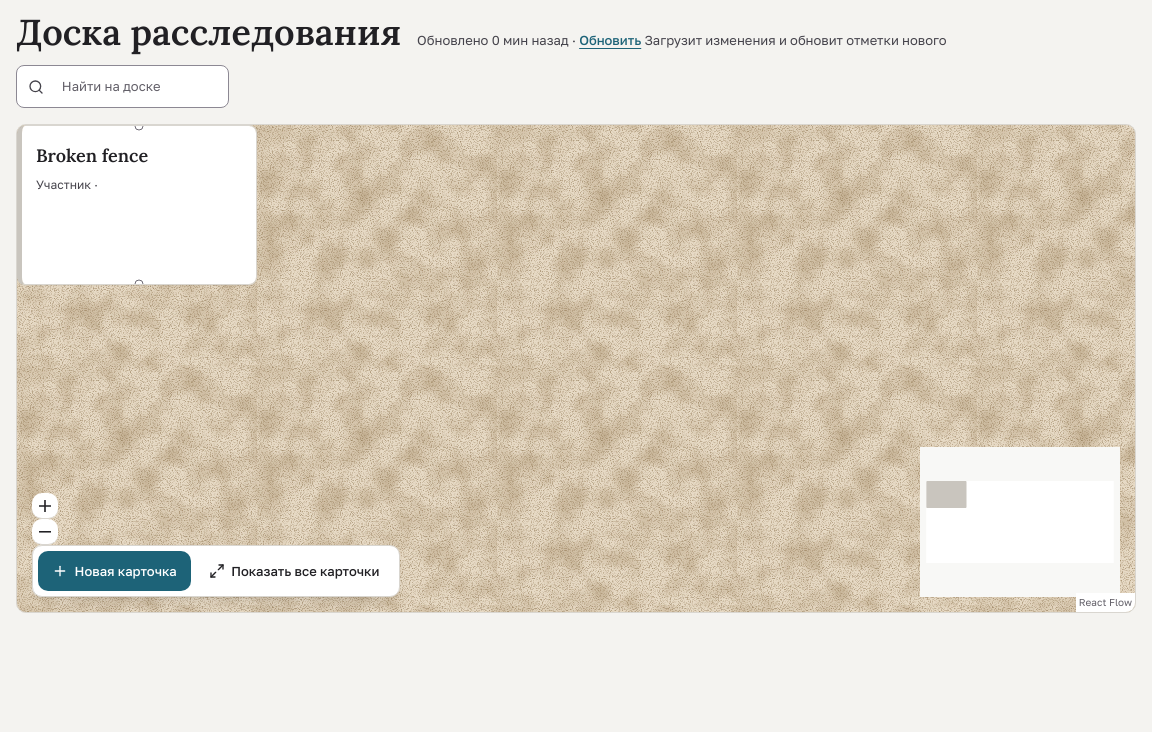
BoardPage › keeps the last snapshot when a manual refresh fails and recovers on the next one
The width and height of the screenshot is (1152, 732).
Check: the heading "Broken fence" is shown, box [36,144,148,167]
Click the button "Обновить": point(610, 41) [579,31,641,50]
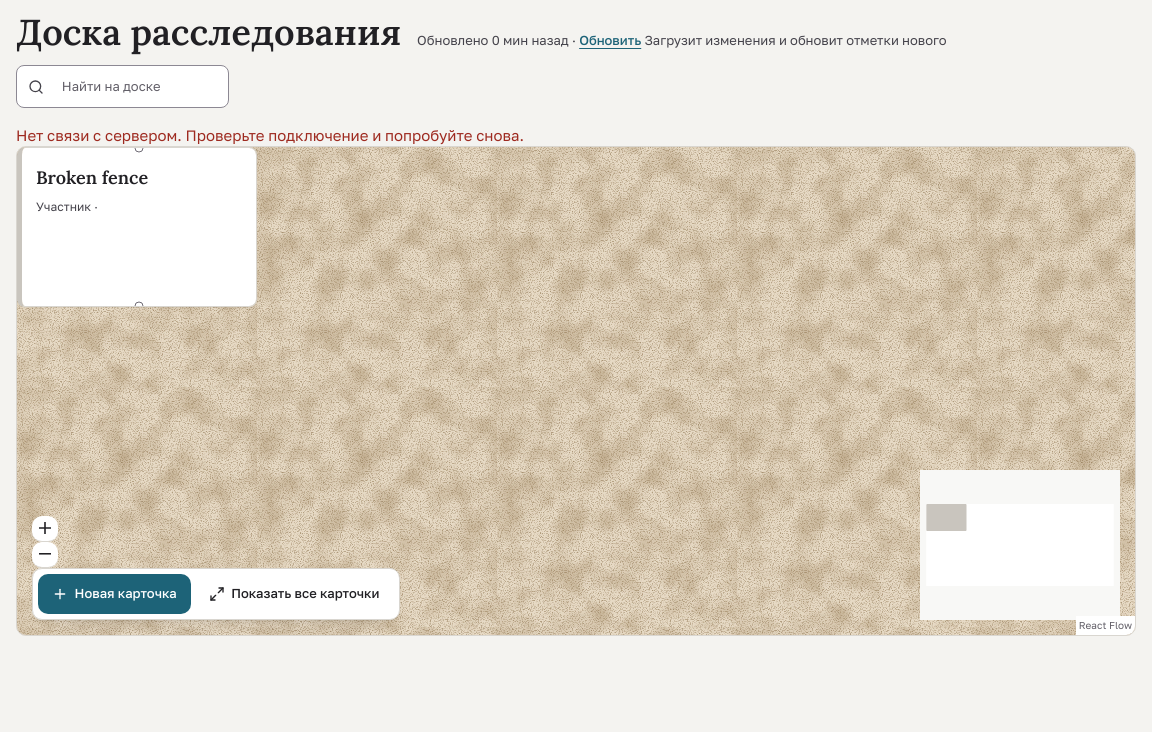
Check: the heading "Broken fence" is shown, box [36,166,148,189]
Check: the message shows "Нет связи с сервером.", box [16,126,524,144]
Click the button "Обновить": point(610, 41) [579,31,641,50]
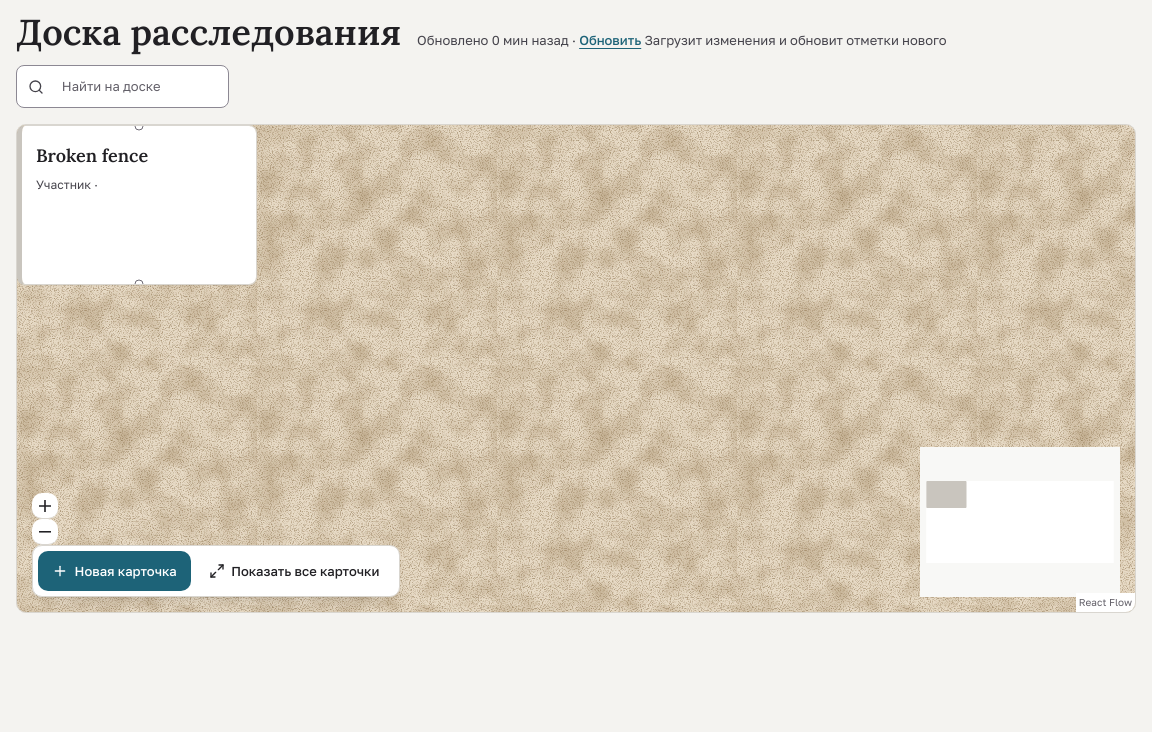
Check: the heading "Broken fence" is shown, box [36,144,148,167]
Check: the message "Нет связи с сервером. Проверьте подключение и попробуйте снова." is gone
